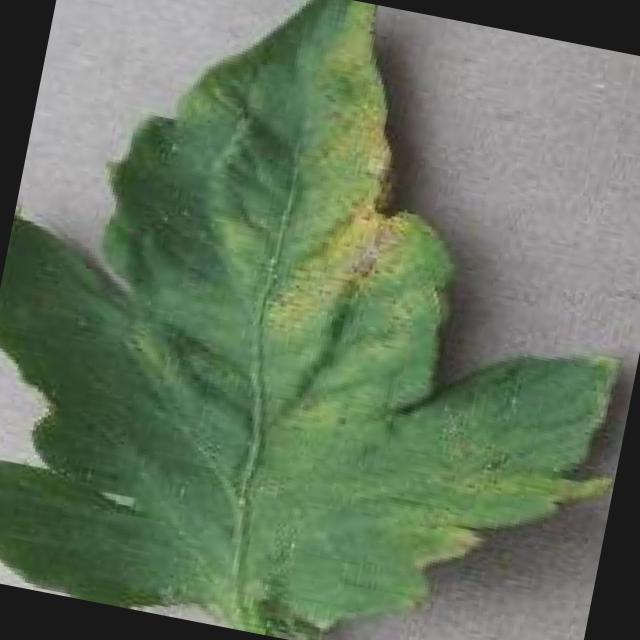bacterial spot: (0, 0, 623, 640)
